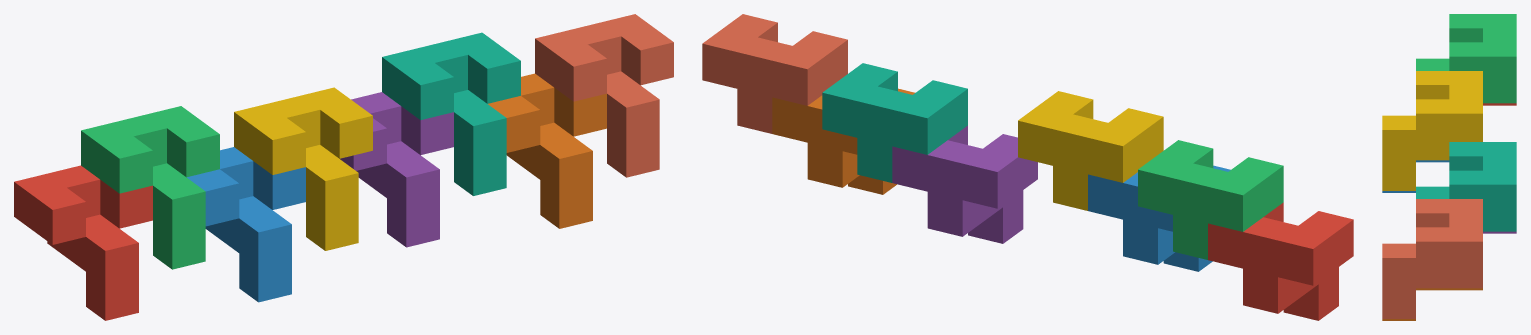
File: tiling.obj
3 renders of one model, left to right at view 1: azimuth 30°, elevation 25°; view 2: azimuth 150°, elevation 25°; view 3: azimuth 270°, elevation 25°, orthographic. The views are drawn at different scales.
Visible parts, largest first — view 1: copy_1_domain_4, copy_1_domain_3, copy_1_domain_7, copy_1_domain_8, copy_1_domain_1, copy_1_domain_6, copy_1_domain_2, copy_1_domain_5; view 2: copy_1_domain_1, copy_1_domain_5, copy_1_domain_7, copy_1_domain_3, copy_1_domain_8, copy_1_domain_4, copy_1_domain_6, copy_1_domain_2; view 3: copy_1_domain_8, copy_1_domain_4, copy_1_domain_3, copy_1_domain_7, copy_1_domain_6, copy_1_domain_2.
Boxes of the visible parts, x1,y1,x2,y2 form: copy_1_domain_4: (234,87,372,250); copy_1_domain_3: (81,106,219,269); copy_1_domain_7: (382,32,520,195); copy_1_domain_8: (535,14,673,177); copy_1_domain_1: (14,165,152,320); copy_1_domain_6: (488,73,606,228); copy_1_domain_2: (187,147,305,302); copy_1_domain_5: (340,92,453,247); copy_1_domain_1: (1208,202,1353,320); copy_1_domain_5: (892,125,1037,243); copy_1_domain_7: (822,63,967,182); copy_1_domain_3: (1138,140,1283,259); copy_1_domain_8: (702,14,847,133); copy_1_domain_4: (1018,91,1163,210); copy_1_domain_6: (772,88,915,194); copy_1_domain_2: (1088,165,1230,271); copy_1_domain_8: (1382,199,1482,318); copy_1_domain_4: (1382,71,1482,190); copy_1_domain_3: (1416,14,1516,103); copy_1_domain_7: (1416,142,1516,231); copy_1_domain_6: (1382,288,1482,320); copy_1_domain_2: (1382,160,1449,192).
Size of the model in its own units: 18 by 4 by 4.
